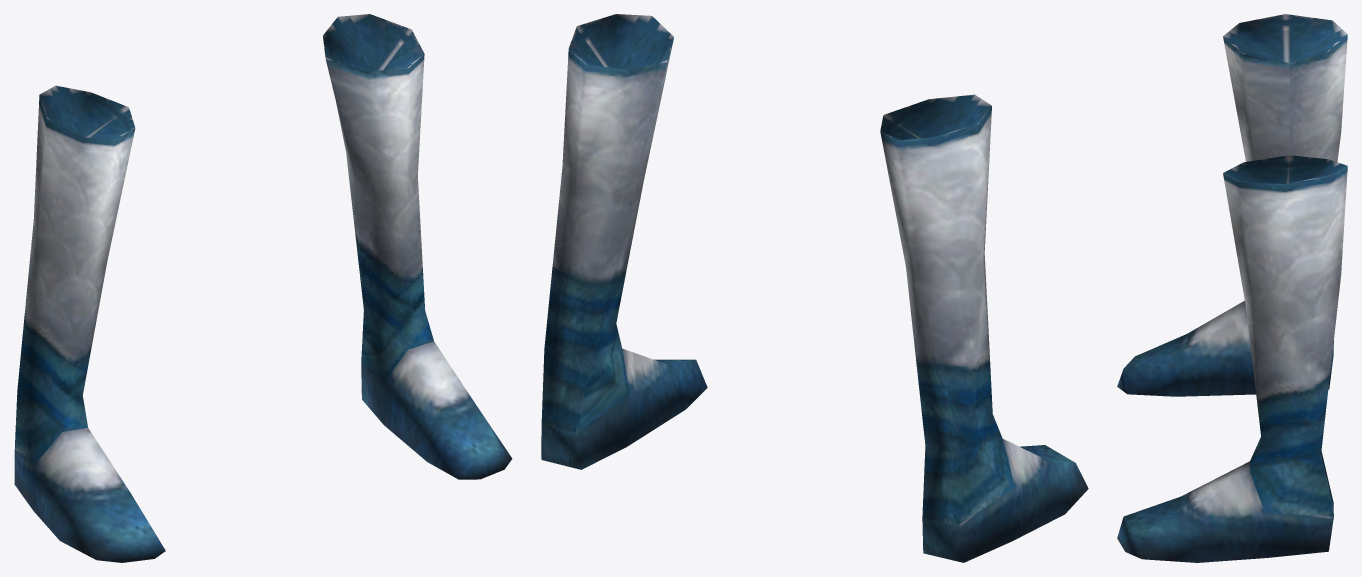
3 renders of one model, left to right at view 1: azimuth 30°, elevation 25°; view 2: azimuth 150°, elevation 25°; view 3: azimuth 270°, elevation 25°, orthographic. The views are drawn at different scales.
Visible parts, largest first — view 1: clothes_01_fa; view 2: clothes_01_fa; view 3: clothes_01_fa.
Part boxes in pixels (x1,y1,x2,y2): clothes_01_fa: (14,14,512,562); clothes_01_fa: (541,14,1088,562); clothes_01_fa: (1117,14,1347,562).
Size of the model in its own units: 0.5209 by 0.4417 by 0.2528.
Materials: 1 (1 with a texture image).
